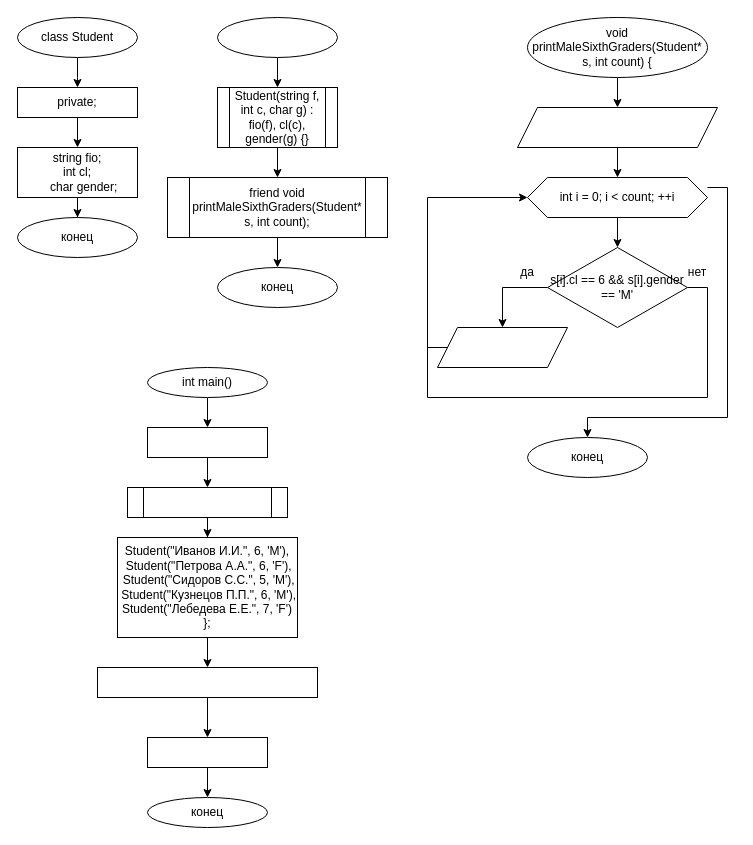
This 753x845 diagram has some shape labels left out. The centre of each missing label's shape, as x and y in pixels:
const int n = 5;: the point at 207,442
cout << "Учащиеся 6 класса мужского пола:\n";: the point at 617,127
cout << s[i].fio << endl;: the point at 502,347
printMaleSixthGraders(students, n);: the point at 207,682
public;: the point at 277,37
return 0;: the point at 207,752
Student students[n] = {: the point at 207,502
